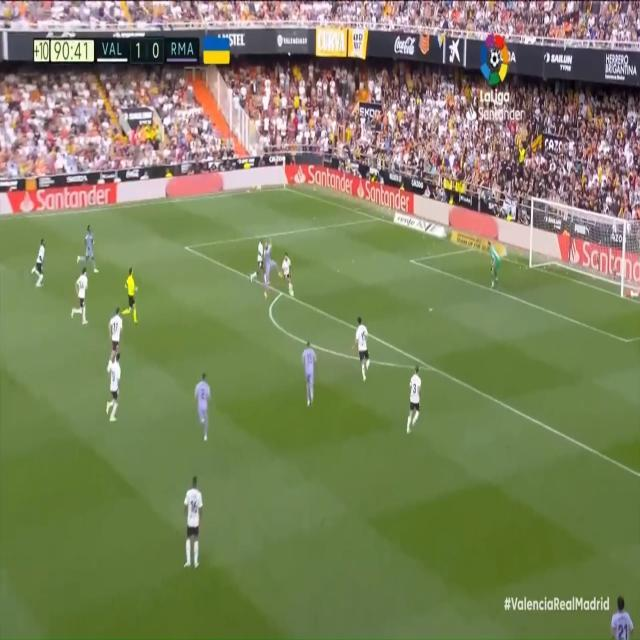goalkeeper: (486, 241, 501, 291)
player: (181, 467, 205, 572), (194, 366, 216, 441), (608, 583, 636, 640), (104, 353, 125, 428), (405, 361, 425, 438), (69, 266, 91, 329), (301, 331, 317, 410), (75, 224, 101, 272), (262, 236, 282, 297), (354, 315, 371, 385), (29, 240, 49, 292), (108, 304, 124, 367), (282, 246, 296, 298), (253, 231, 264, 287)
referee: (121, 264, 141, 324)
